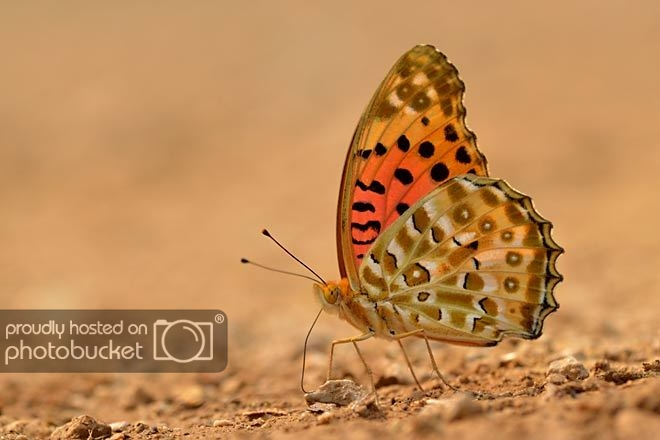Argyreus hyperbius: (235, 41, 566, 408)
butterfly: (237, 43, 568, 410)
